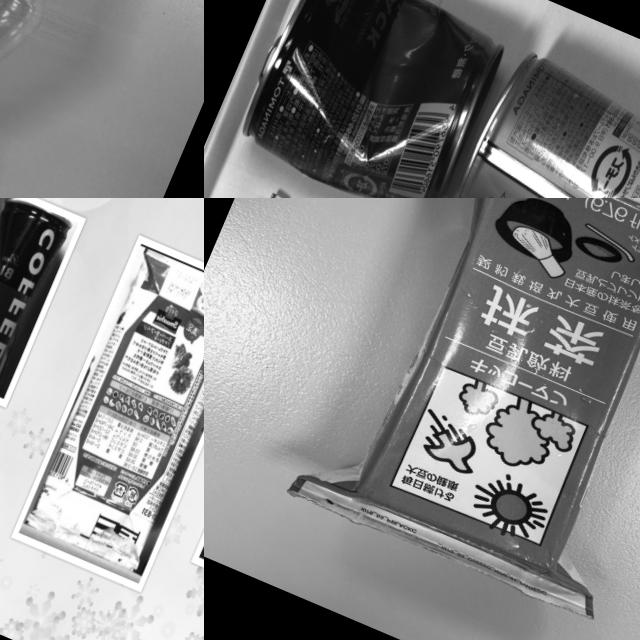Aluminium Foil: (283, 198, 640, 621), (15, 242, 204, 583)
Can: (224, 0, 508, 198), (430, 41, 640, 198), (0, 198, 75, 400)
Transparent Plastic Bottle: (0, 0, 158, 198)
